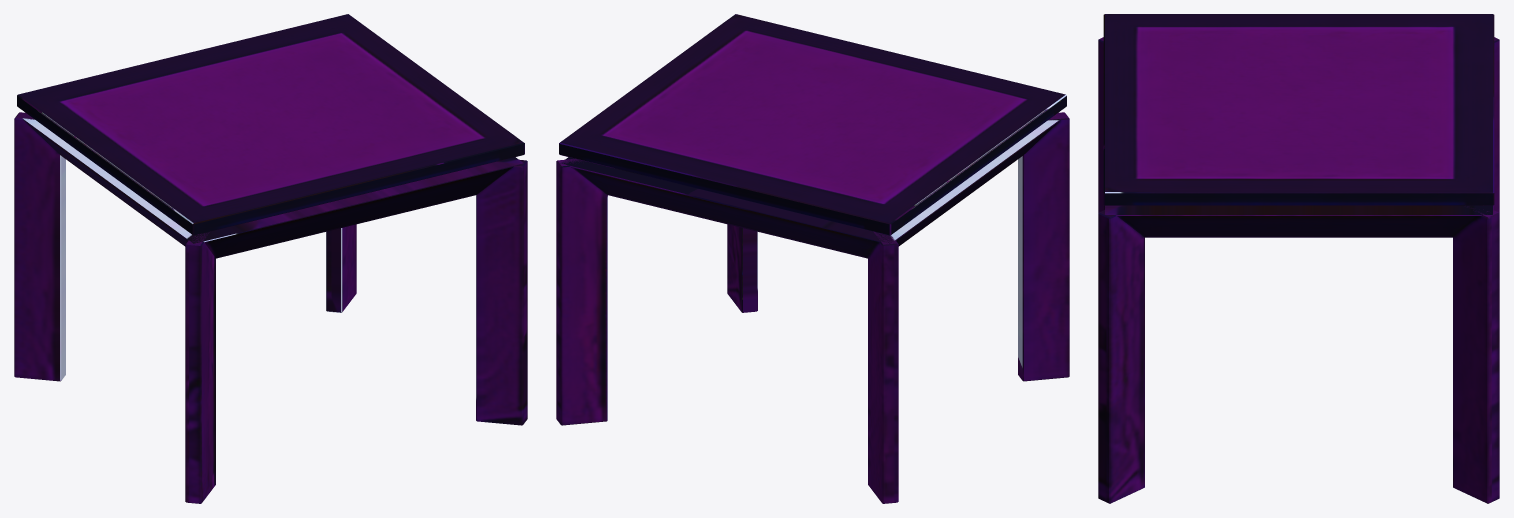
File: edited_mesh.glb
3 views of the same model, side by side, from view 1: azimuth 30°, elevation 25°; view 2: azimuth 150°, elevation 25°; view 3: azimuth 270°, elevation 25° (orthographic). The views are drawn at different scales.
Visible parts, largest first — view 1: solid_001_wire; view 2: solid_001_wire; view 3: solid_001_wire.
Boxes of the visible parts, x1,y1,x2,y2 form: solid_001_wire: [14, 14, 527, 503]; solid_001_wire: [556, 14, 1069, 503]; solid_001_wire: [1098, 14, 1499, 503].
Size of the model in its own units: 1.56 by 1.22 by 1.44.
1 material, 1 textured.
